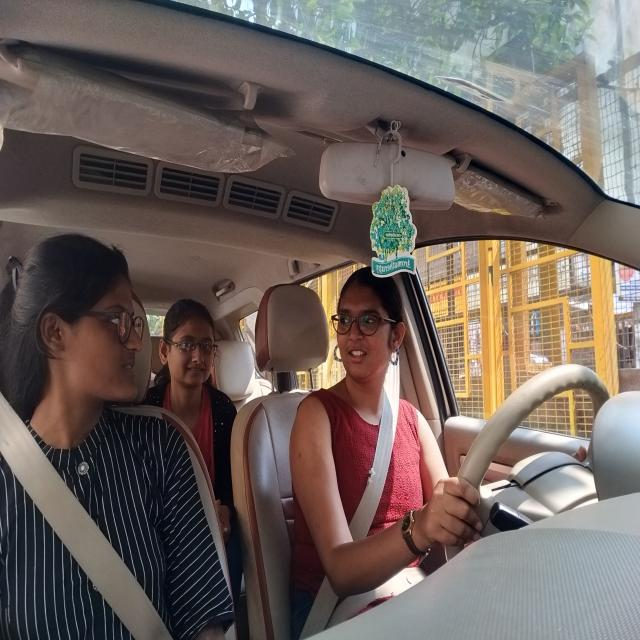person: (4, 211, 152, 466), (330, 251, 414, 410), (161, 296, 222, 412)
talking: (342, 340, 375, 373)
